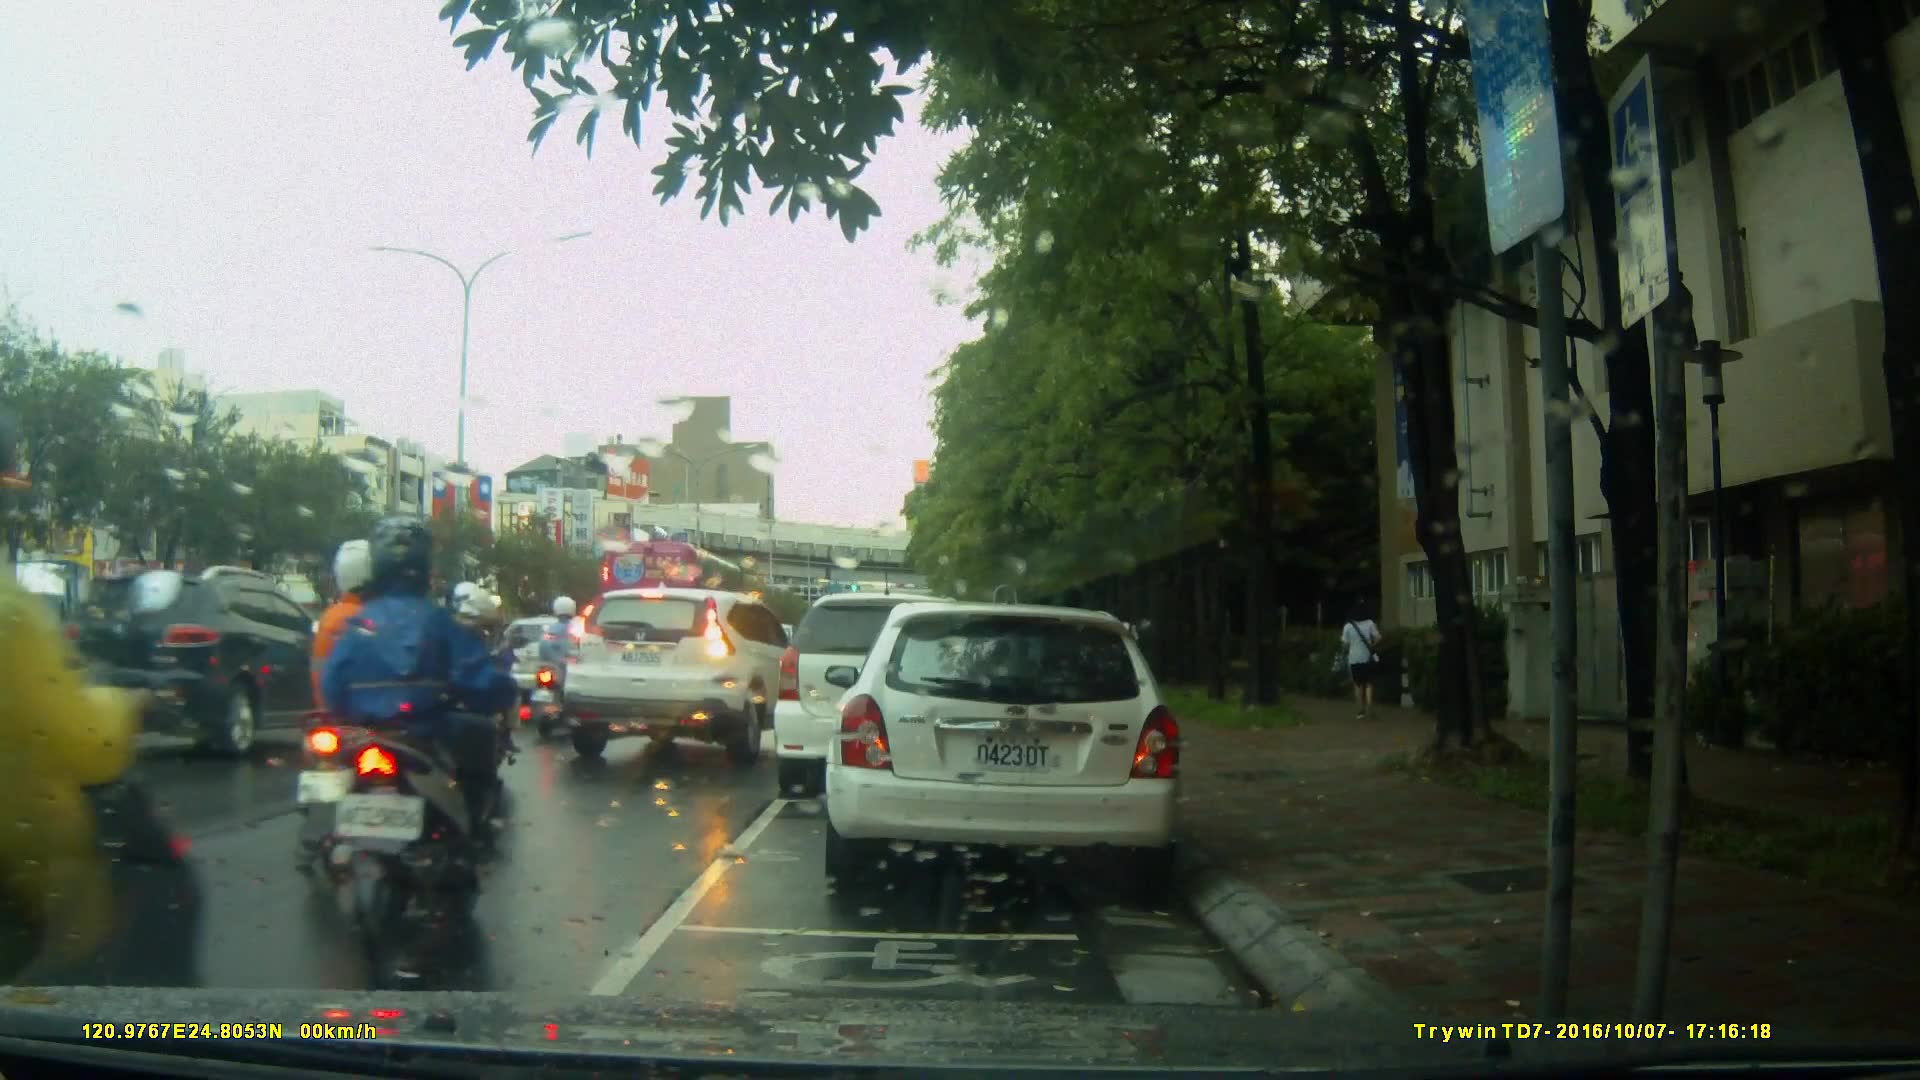pedestrian: (1328, 590, 1389, 735)
rider: (1, 409, 237, 1073), (331, 521, 511, 936), (300, 531, 439, 887), (524, 595, 594, 747)
vehicle: (835, 594, 1194, 898), (47, 561, 346, 763), (548, 585, 824, 773), (776, 590, 1026, 784), (598, 538, 746, 635)
